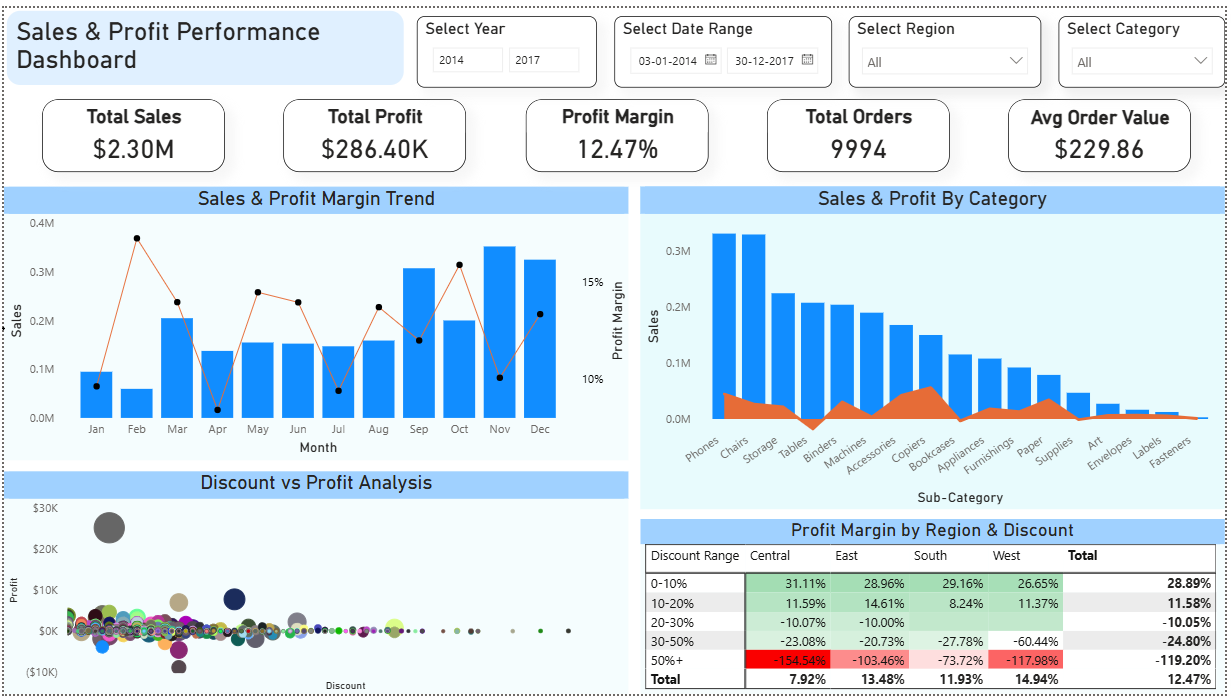

Layout of this report page (visuals, bound fields, positions):
{"tool":"powerbi","page":{"name":"Dashboard","canvas":[1280,720],"ordinal":0},"visuals":[{"type":"lineClusteredColumnComboChart","title":"Sales & Profit Margin Trend","fields":{"Y":["Sum(Sample - Superstore.Sales)"],"Y2":["Sample - Superstore.Profit Margin"],"Category":["Sample - Superstore.Month Name"]},"box":[0,186.7,655,286.7],"z":0},{"type":"pivotTable","title":"Profit Margin by Region & Discount","fields":{"Values":["Sample - Superstore.Profit Margin"],"Columns":["Sample - Superstore.Region"],"Rows":["Sample - Superstore.Discount Range"]},"box":[667.1,535.7,612.9,184.3],"z":1000},{"type":"scatterChart","title":"Discount vs Profit Analysis","fields":{"X":["Sum(Sample - Superstore.Discount)"],"Y":["Sum(Sample - Superstore.Profit)"],"Size":["Sum(Sample - Superstore.Sales)"],"Series":["Sample - Superstore.Product Name"]},"box":[0,485,655,235],"z":2000},{"type":"card","title":"Total Sales","fields":{"Values":["Sample - Superstore.Total Sales"]},"box":[40,95,191.7,76.7],"z":3000},{"type":"card","title":"Total Profit","fields":{"Values":["Sum(Sample - Superstore.Profit)"]},"box":[293.3,95,191.7,76.7],"z":4000},{"type":"card","title":"Total Orders","fields":{"Values":["Sample - Superstore.Total Orders"]},"box":[800,95,191.7,76.7],"z":5000},{"type":"card","title":"Profit Margin","fields":{"Values":["Sample - Superstore.Profit Margin"]},"box":[546.7,95,191.7,76.7],"z":6000},{"type":"textbox","title":"Sales & Profit Performance Dashboard","box":[0,0,421.7,83.3],"z":7000},{"type":"card","title":"Avg Order Value","fields":{"Values":["Sample - Superstore.Avg Order Value"]},"box":[1053.3,95,191.7,76.7],"z":8000},{"type":"slicer","title":"Select Date Range","fields":{"Values":["Sample - Superstore.Order Date"]},"box":[639.4,8.3,228.3,75],"z":9000},{"type":"slicer","title":"Select Region","fields":{"Values":["Sample - Superstore.Region"]},"box":[885.6,8.3,201.7,75],"z":10000},{"type":"slicer","title":"Select Year","fields":{"Values":["Sample - Superstore.Order Year"]},"box":[433.3,8.3,188.3,75],"z":11000},{"type":"slicer","title":"Select Category","fields":{"Values":["Sample - Superstore.Category"]},"box":[1105,8.3,175,75],"z":12000},{"type":"lineClusteredColumnComboChart","title":"Sales & Profit By Category","fields":{"Y":["Sum(Sample - Superstore.Sales)"],"Y2":["Sum(Sample - Superstore.Profit)"],"Category":["Sample - Superstore.Sub-Category"]},"box":[667.1,187.1,612.9,338.6],"z":13000}]}

Visuals, with their boxes in screenshot pixels (x1, y1, x2, y2), scaled from the page's 1280x720 canvas onto the 1231x698 screenshot:
"Sales & Profit Margin Trend" lineClusteredColumnComboChart: bbox=[0, 181, 630, 459]
"Profit Margin by Region & Discount" pivotTable: bbox=[642, 519, 1230, 697]
"Discount vs Profit Analysis" scatterChart: bbox=[0, 470, 630, 697]
"Total Sales" card: bbox=[38, 92, 223, 166]
"Total Profit" card: bbox=[282, 92, 466, 166]
"Total Orders" card: bbox=[769, 92, 954, 166]
"Profit Margin" card: bbox=[526, 92, 710, 166]
"Sales & Profit Performance Dashboard" textbox: bbox=[0, 0, 406, 81]
"Avg Order Value" card: bbox=[1013, 92, 1197, 166]
"Select Date Range" slicer: bbox=[615, 8, 834, 81]
"Select Region" slicer: bbox=[852, 8, 1046, 81]
"Select Year" slicer: bbox=[417, 8, 598, 81]
"Select Category" slicer: bbox=[1063, 8, 1230, 81]
"Sales & Profit By Category" lineClusteredColumnComboChart: bbox=[642, 181, 1230, 510]
